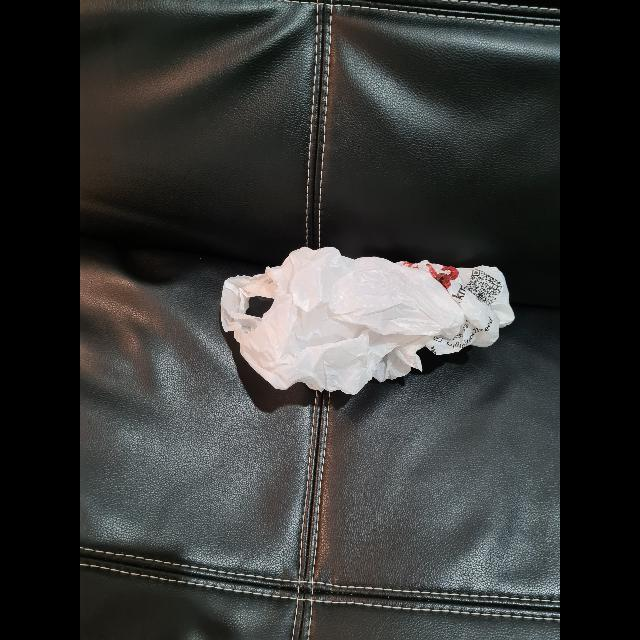plastic_bag: (218, 256, 524, 394)
